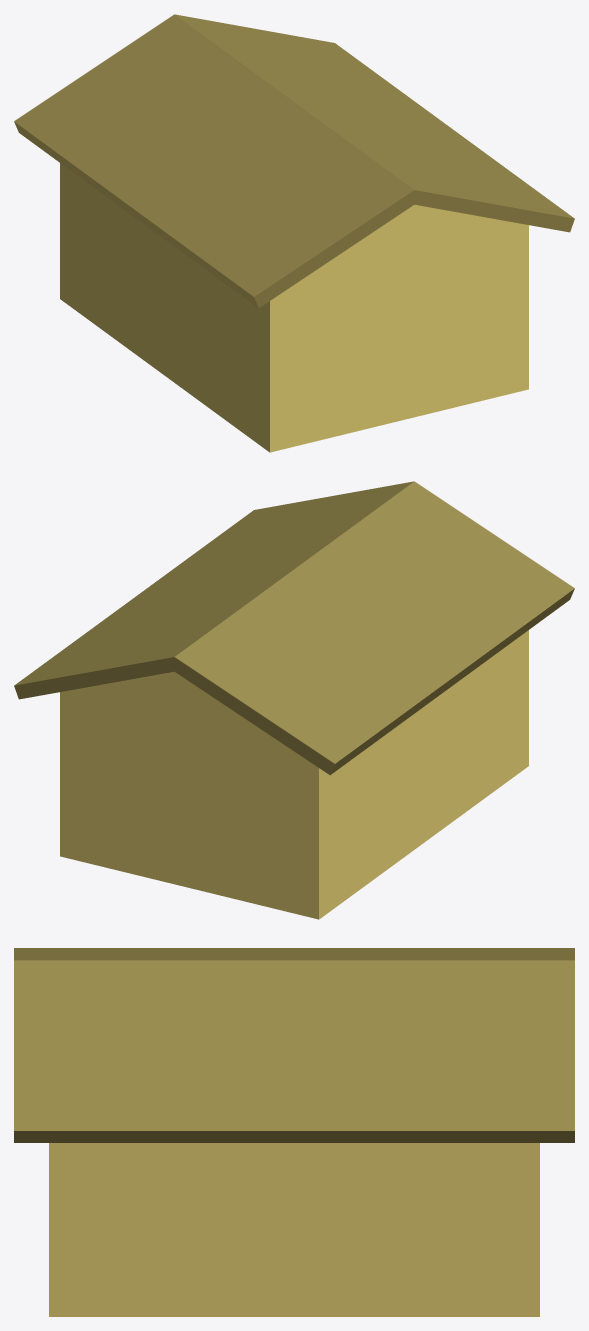
The model's file is result.glb.
3 views of the same model, one above another, from view 1: azimuth 30°, elevation 25°; view 2: azimuth 150°, elevation 25°; view 3: azimuth 270°, elevation 25° (orthographic). The views are drawn at different scales.
Parts seen in each view (by area): view 1: aa57df27-331e-4273-9283-9a5c82006049__undefined (×2), 55bca78b-6c89-4432-8192-3715771bdde2__undefined; view 2: aa57df27-331e-4273-9283-9a5c82006049__undefined (×2), 55bca78b-6c89-4432-8192-3715771bdde2__undefined; view 3: aa57df27-331e-4273-9283-9a5c82006049__undefined (×2), 55bca78b-6c89-4432-8192-3715771bdde2__undefined.
Part boxes in pixels (<box>): aa57df27-331e-4273-9283-9a5c82006049__undefined (×2): <box>14,14,574,308</box>; 55bca78b-6c89-4432-8192-3715771bdde2__undefined: <box>60,163,528,452</box>; aa57df27-331e-4273-9283-9a5c82006049__undefined (×2): <box>14,481,574,775</box>; 55bca78b-6c89-4432-8192-3715771bdde2__undefined: <box>60,630,528,919</box>; aa57df27-331e-4273-9283-9a5c82006049__undefined (×2): <box>14,948,574,1142</box>; 55bca78b-6c89-4432-8192-3715771bdde2__undefined: <box>49,1143,539,1316</box>.
Bounding box in the file's own units: 618 × 445 × 800.
